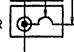Single Phase Tap-Off Unit: (9, 4, 66, 39)
